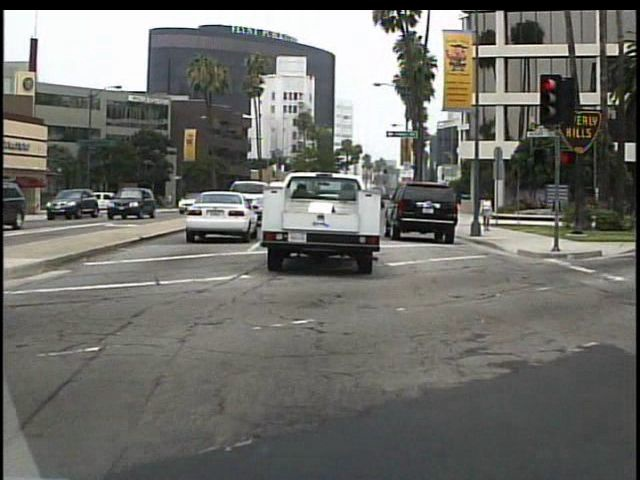person: (478, 188, 496, 237)
